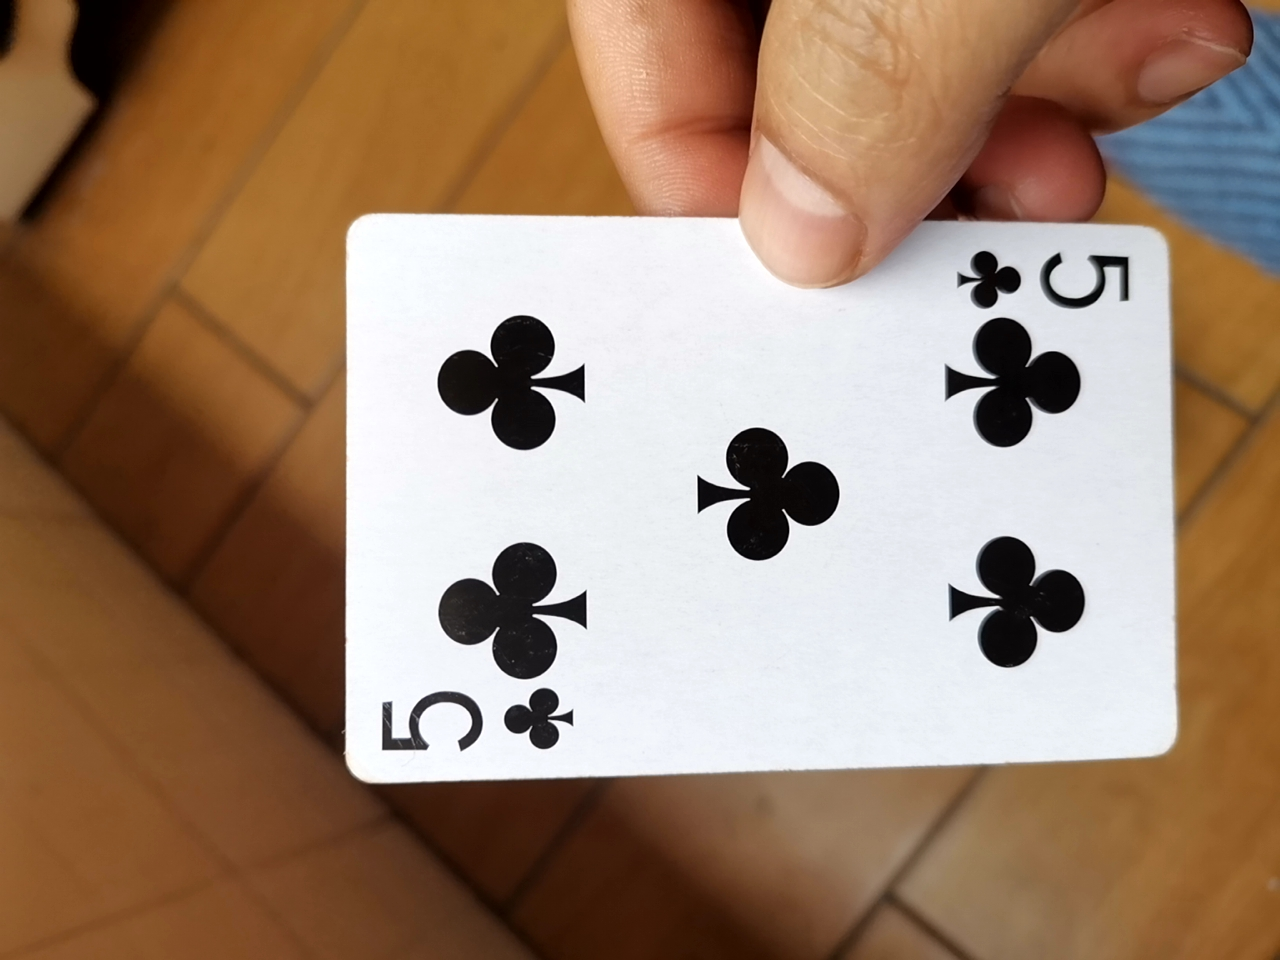mh 5: (328, 213, 1175, 790)
